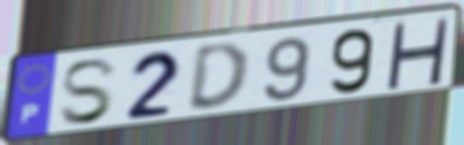2: (120, 47, 187, 125)
9: (259, 34, 315, 104), (328, 27, 376, 96)
D: (184, 40, 252, 113)
H: (383, 16, 453, 90)
S: (56, 56, 121, 128)
